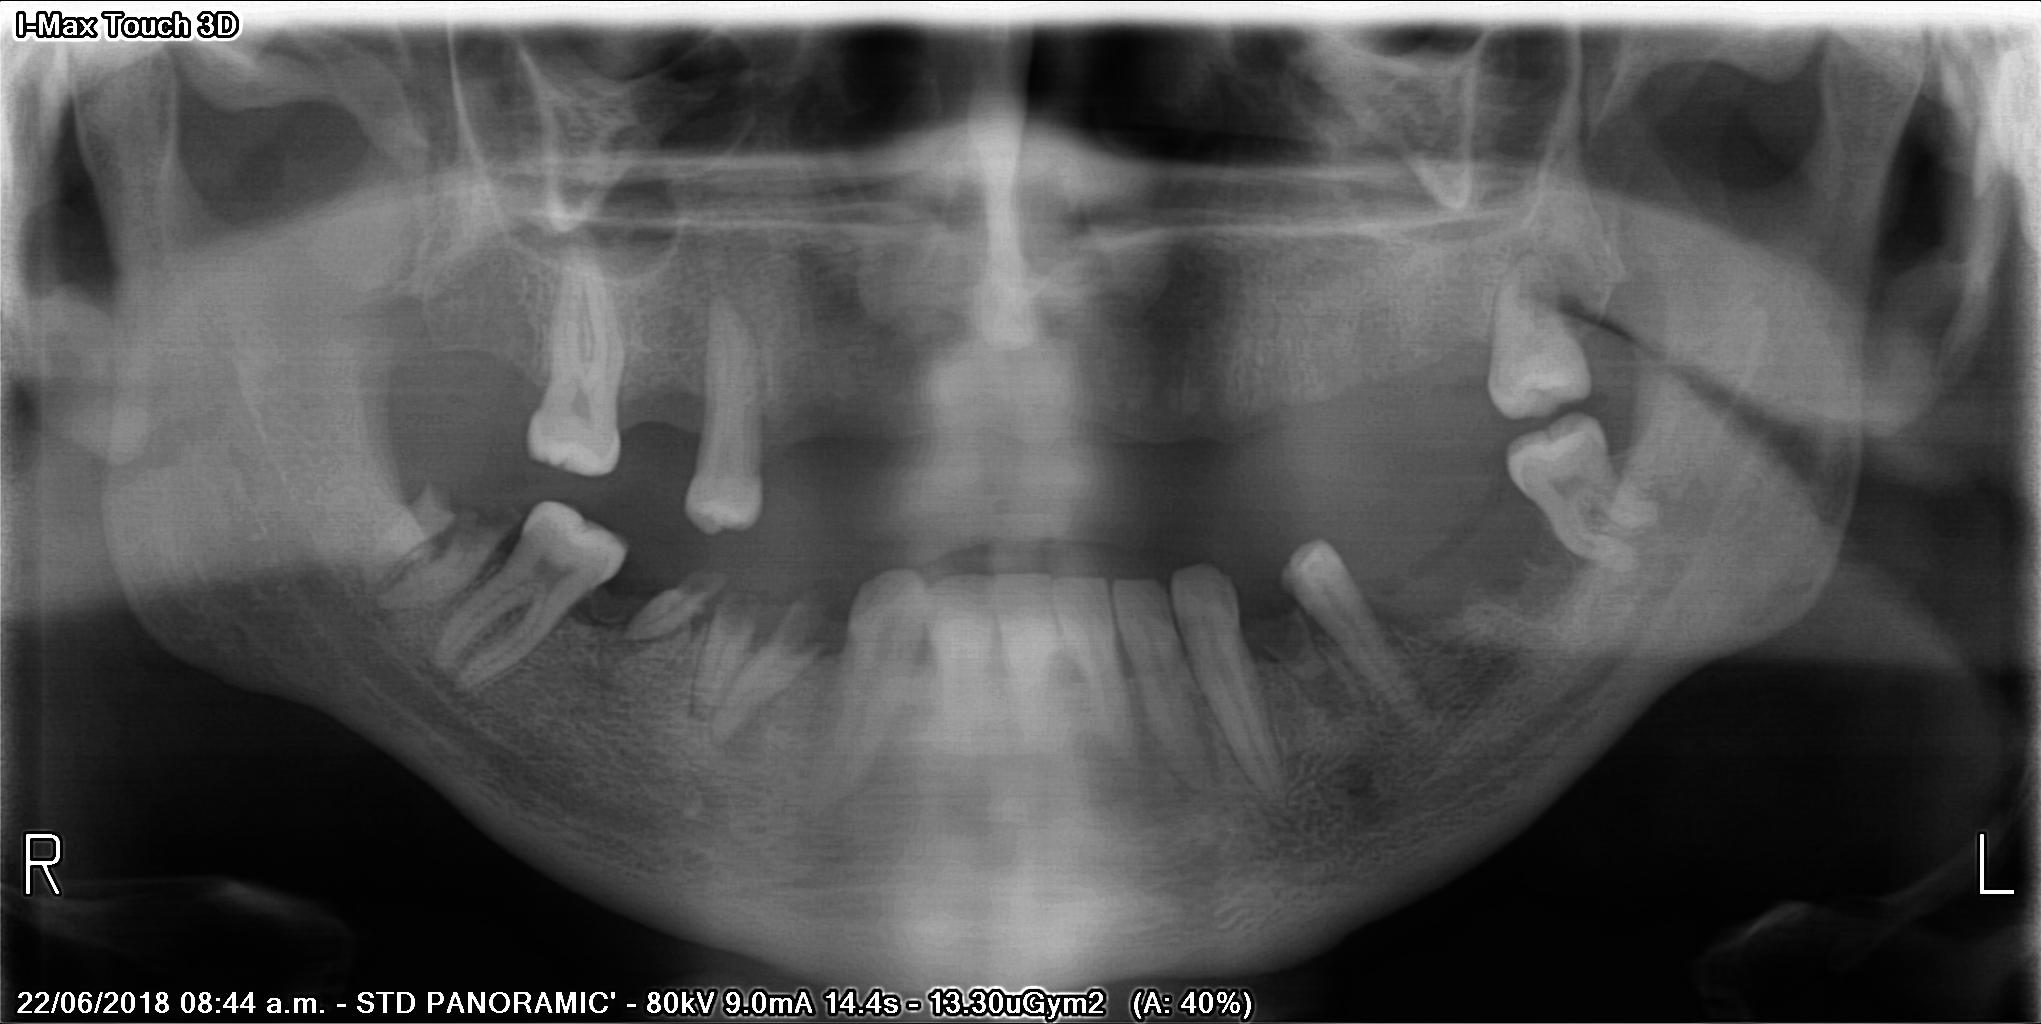Çürük: (531, 434, 627, 481)
Çürük Bölgesi: (774, 597, 829, 661), (706, 576, 774, 623), (451, 499, 511, 541), (426, 464, 479, 509), (670, 556, 729, 597)
